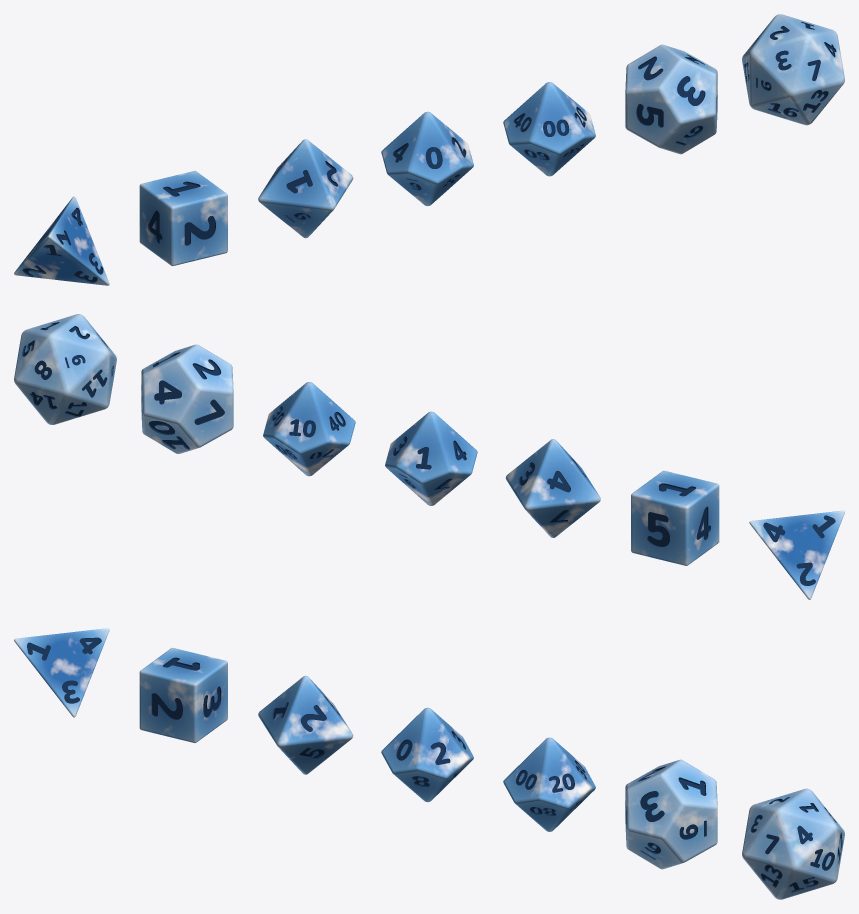
Rendered from sky.glb.
3 views of the same model, one above another, from view 1: azimuth 30°, elevation 25°; view 2: azimuth 150°, elevation 25°; view 3: azimuth 330°, elevation 25° (orthographic).
Visible parts, largest first — view 1: d20, d12, d6, d100, d10, d8, d4; view 2: d20, d12, d6, d100, d10, d8, d4; view 3: d20, d12, d6, d8, d10, d100, d4.
Boxes of the visible parts, x1,y1,x2,y2 form: d20: (742, 14, 844, 125); d12: (625, 44, 717, 154); d6: (139, 171, 227, 266); d100: (503, 82, 595, 176); d10: (381, 111, 473, 206); d8: (258, 139, 353, 238); d4: (14, 196, 109, 285); d20: (14, 314, 116, 424); d12: (141, 344, 233, 453); d6: (631, 470, 719, 565); d100: (263, 382, 355, 476); d10: (385, 411, 477, 505); d8: (505, 439, 600, 537); d4: (749, 510, 844, 599); d20: (742, 788, 844, 899); d12: (625, 759, 717, 869); d6: (139, 647, 227, 742); d8: (258, 675, 353, 774); d10: (381, 707, 473, 802); d100: (503, 737, 595, 831); d4: (14, 628, 109, 717).
Bounding box in the file's own units: 21.14 × 2.47 × 2.47.
14 materials, 7 textured.
